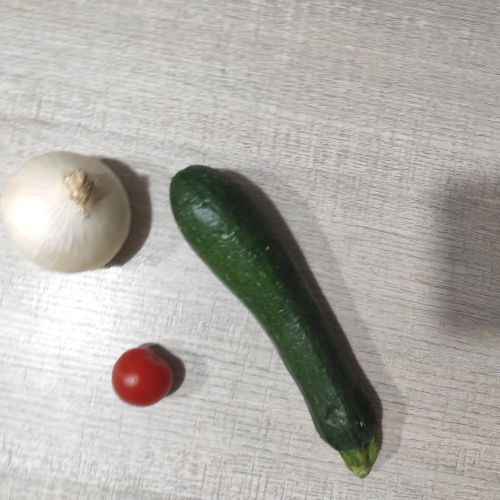cipolla: (8, 150, 134, 282)
pomodoro: (106, 340, 180, 407)
zucchine: (179, 169, 408, 472)
